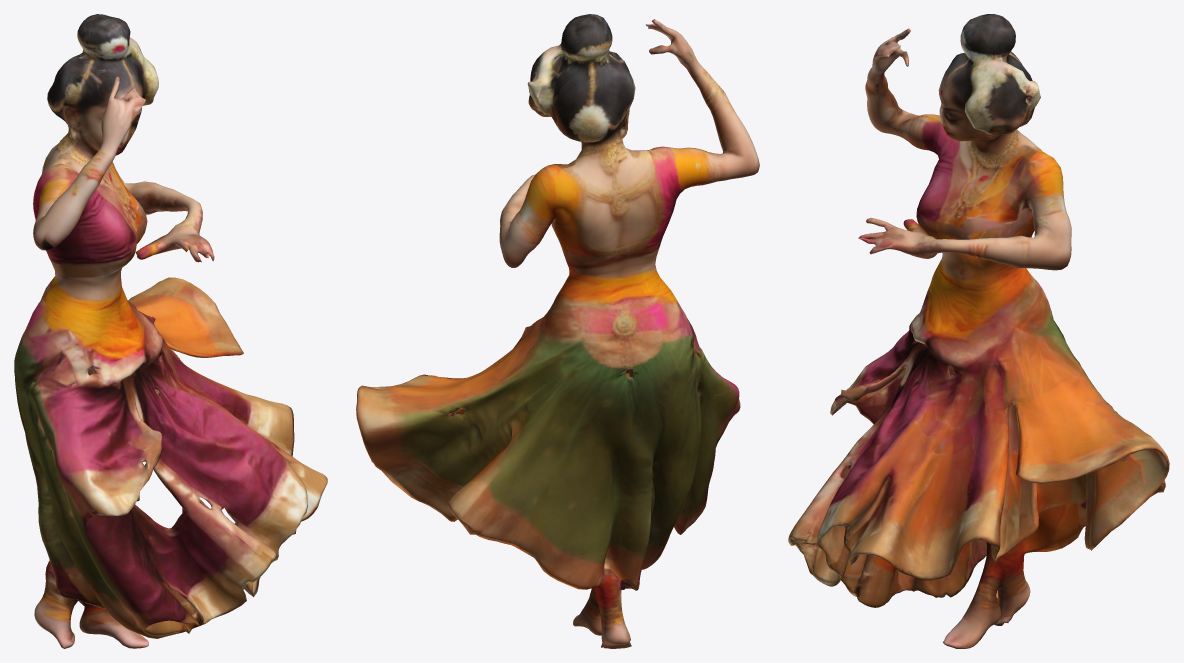
3 renders of one model, left to right at view 1: azimuth 30°, elevation 25°; view 2: azimuth 150°, elevation 25°; view 3: azimuth 270°, elevation 25°, orthographic.
Bounding box in the file's own units: 1.01 × 1.99 × 1.1.
1 material, 1 textured.
